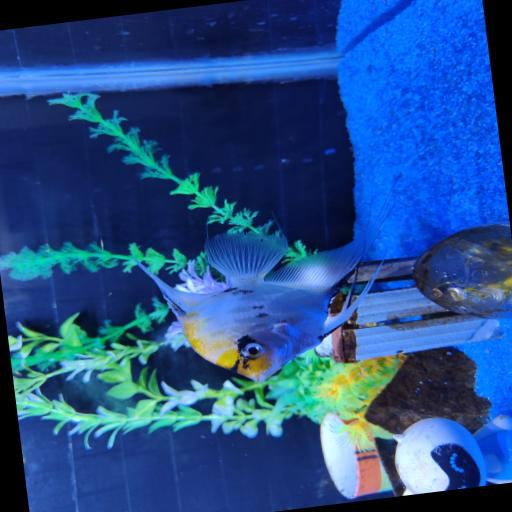Fish: (138, 205, 389, 381)
